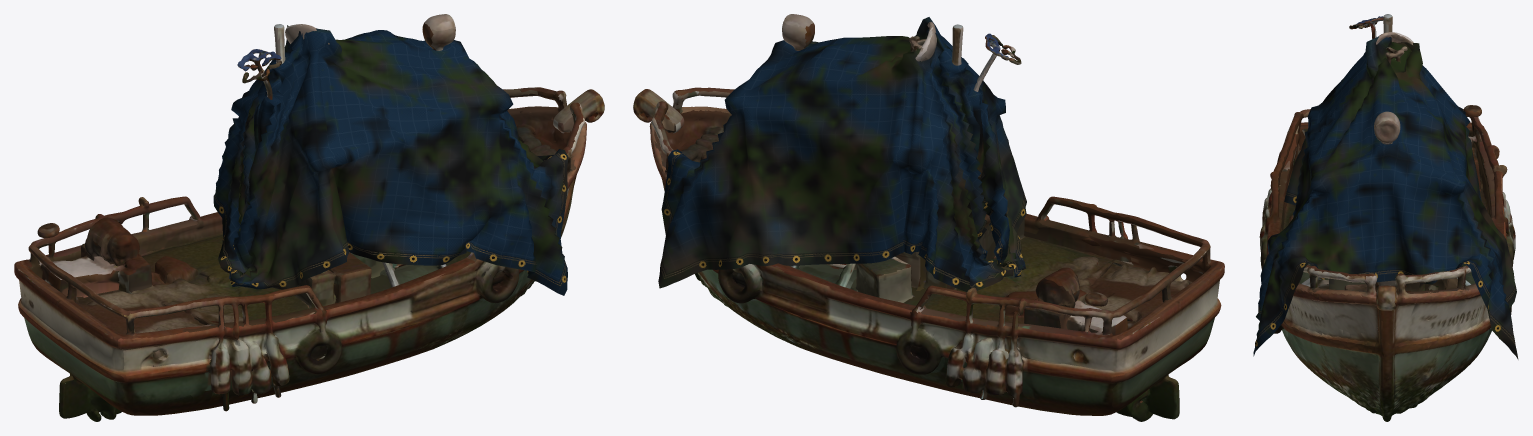
File: schiff.glb
The picture shows the model from 3 angles, left to right: view 1: azimuth 30°, elevation 25°; view 2: azimuth 150°, elevation 25°; view 3: azimuth 270°, elevation 25°; orthographic projection. The views are drawn at different scales.
Visible parts, largest first — view 1: world, Tarp; view 2: world, Tarp; view 3: Tarp, world.
Part boxes in pixels (bbox=[...]): world: bbox=[14, 14, 604, 421]; Tarp: bbox=[213, 25, 568, 295]; world: bbox=[633, 14, 1224, 421]; Tarp: bbox=[658, 17, 1026, 291]; Tarp: bbox=[1253, 36, 1518, 359]; world: bbox=[1259, 14, 1515, 421].
Size of the model in its own units: 1.99 by 1.22 by 0.9167.
2 materials, 2 textured.
